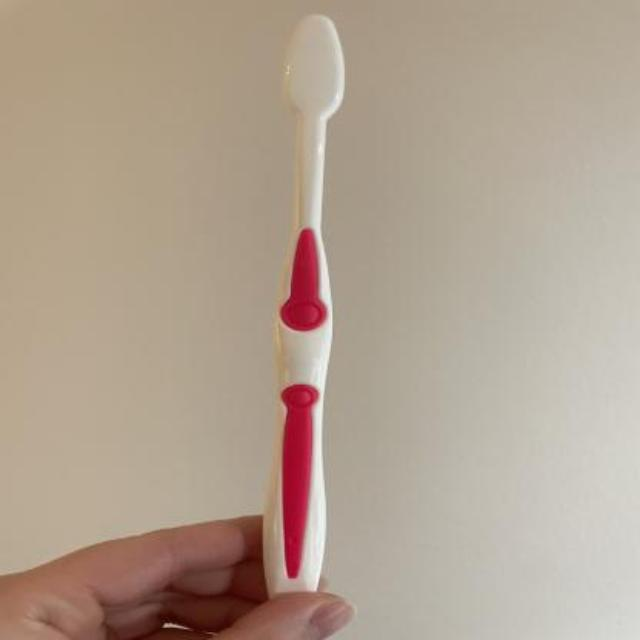toothbrush: (254, 2, 356, 606)
